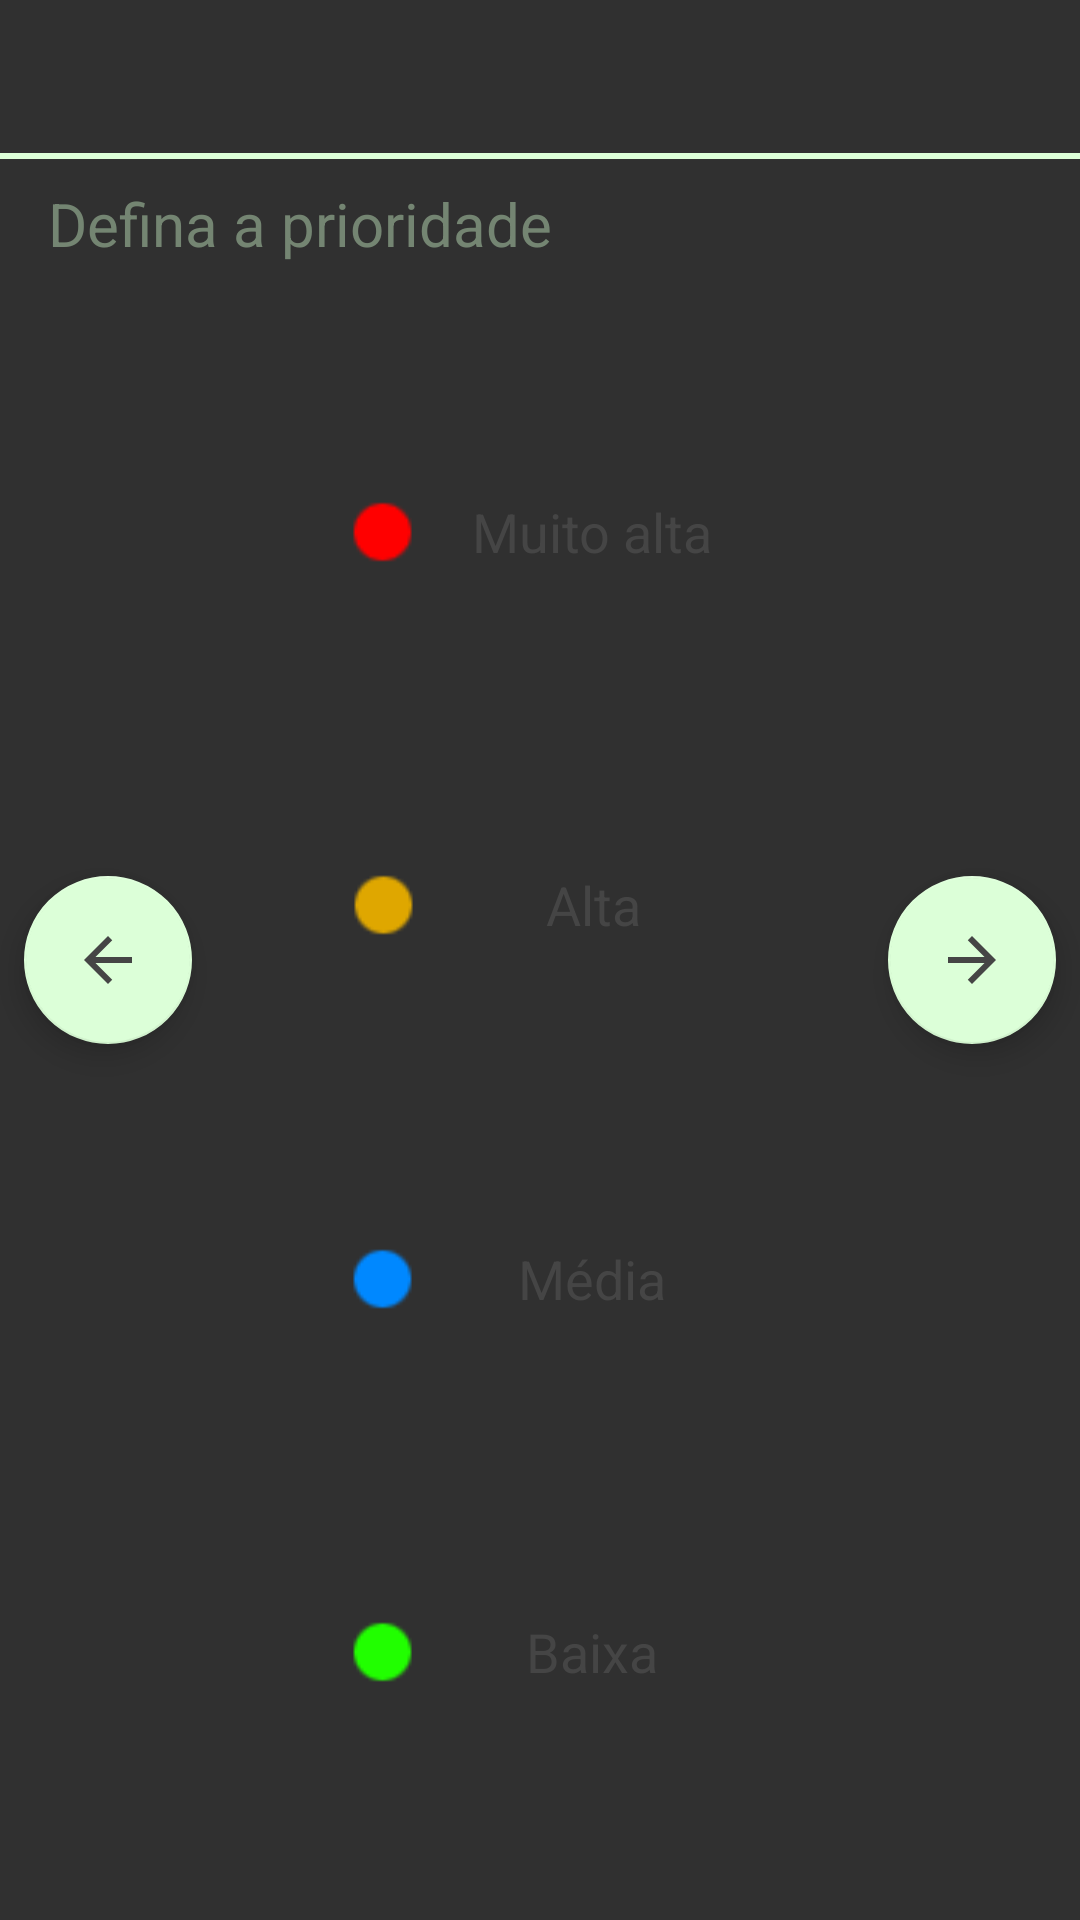

Icons on this 1080 × 1920 Android screen, each with the point to tap as [x,y]:
arrow proximo: [972,960]
arrow voltar: [108,960]
